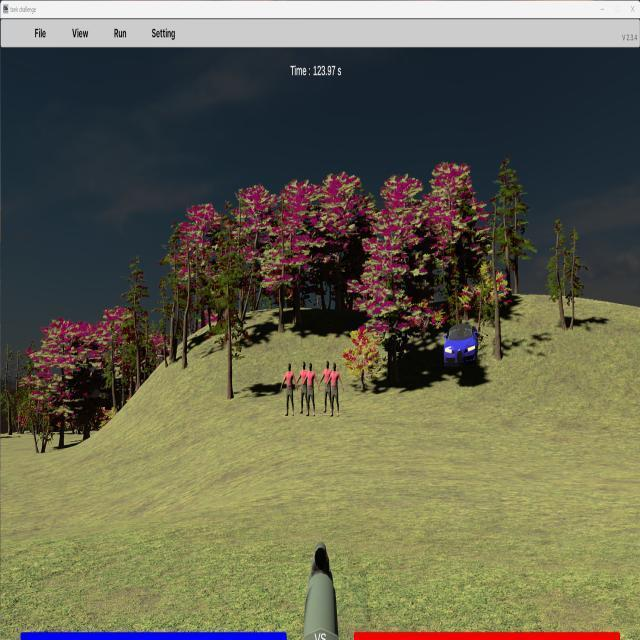Human: (326, 362, 344, 417), (302, 361, 319, 417), (281, 362, 297, 417), (319, 361, 334, 413), (296, 361, 311, 413)
car: (443, 323, 479, 366), (443, 323, 479, 365)
